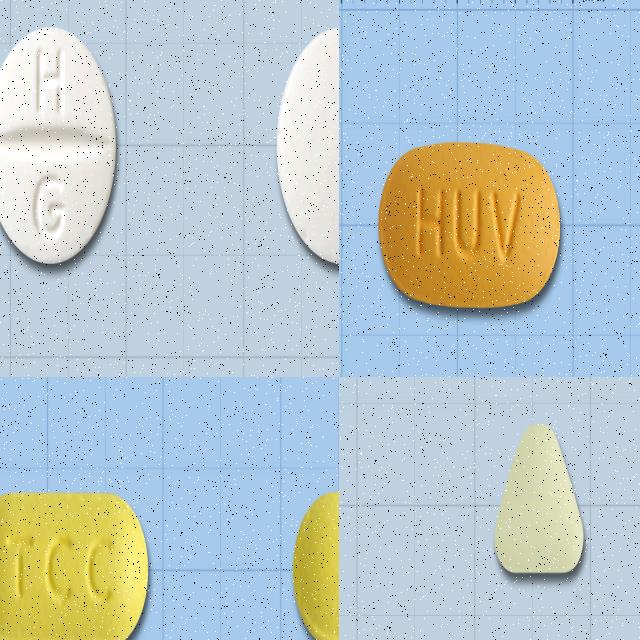Aris: (492, 418, 586, 580)
Cipoxcin: (0, 19, 123, 276), (273, 19, 339, 274)
Clavit: (380, 138, 564, 316)
Clycin Tab-500mg: (0, 491, 148, 640), (294, 490, 339, 640)
